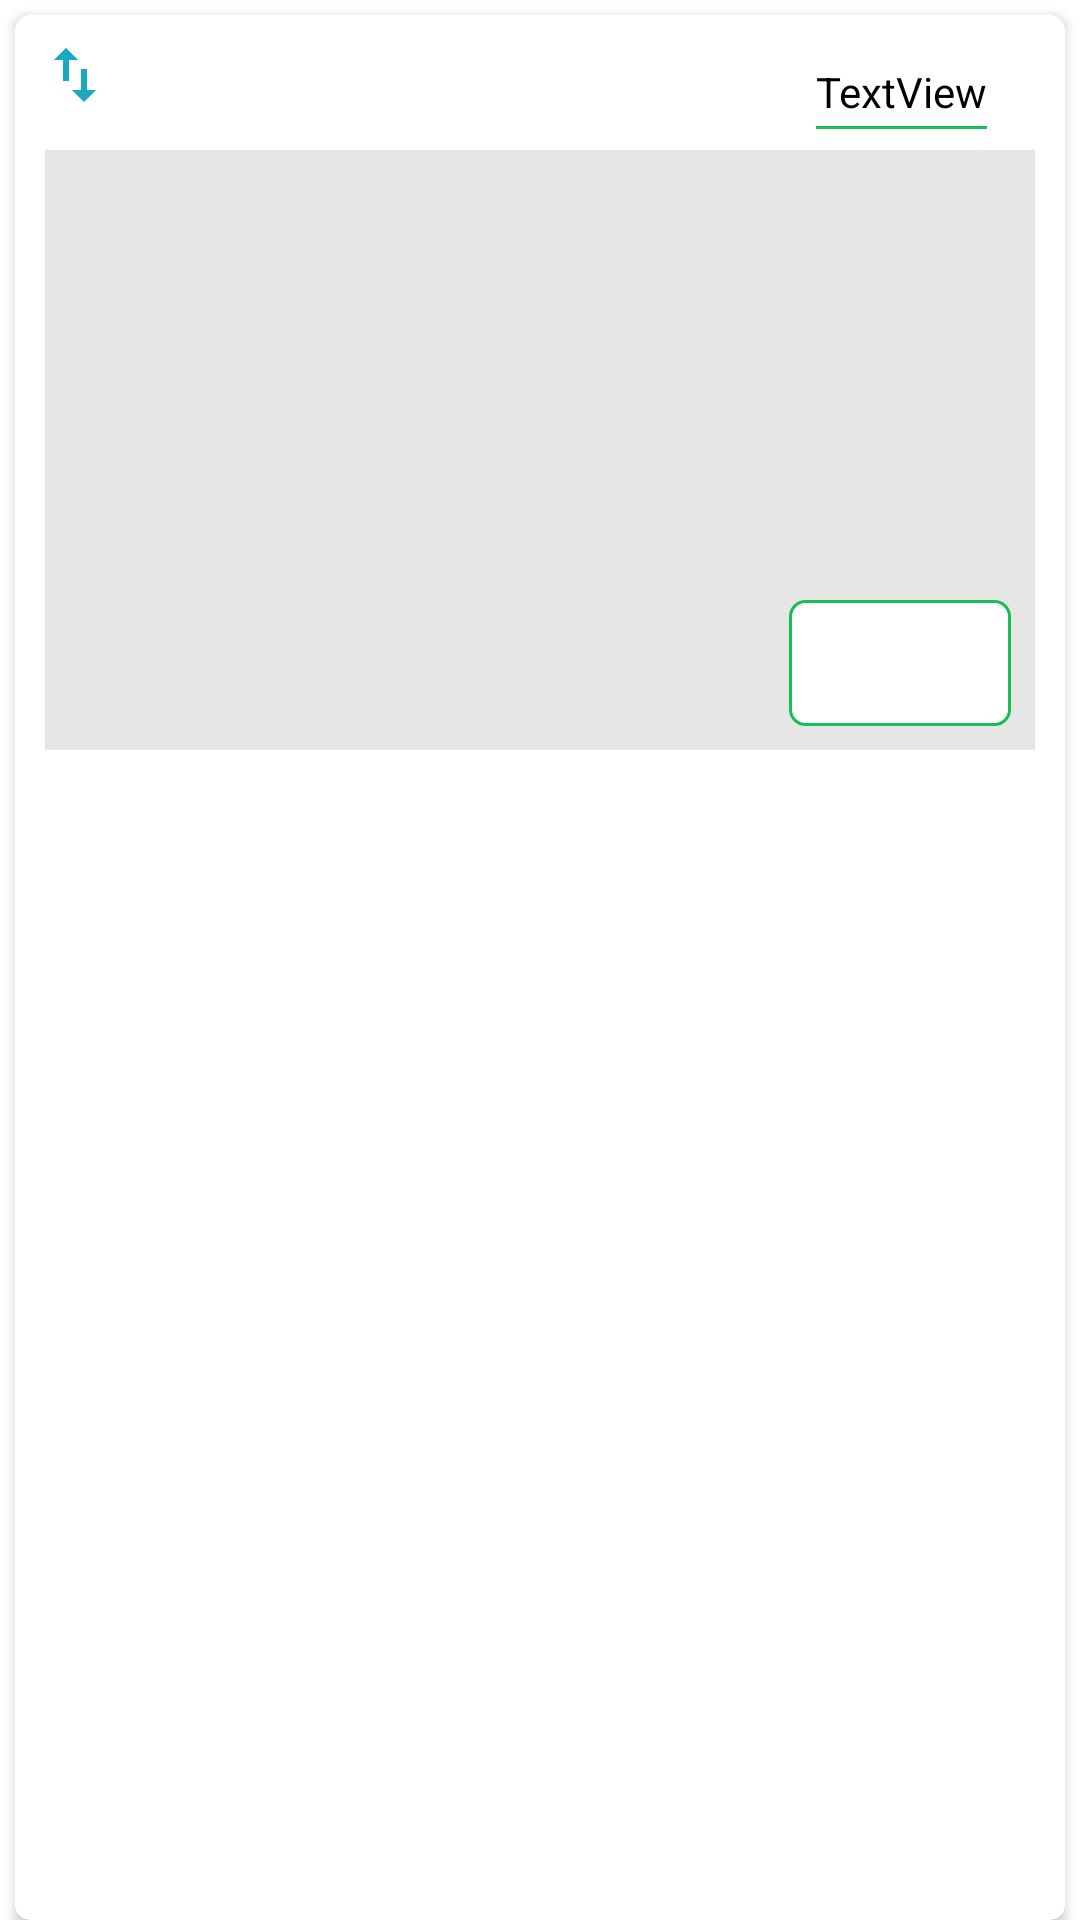

Icon click points for this 1080px×1920px phone screenshot, format [x,y]:
drag: [75,75]
